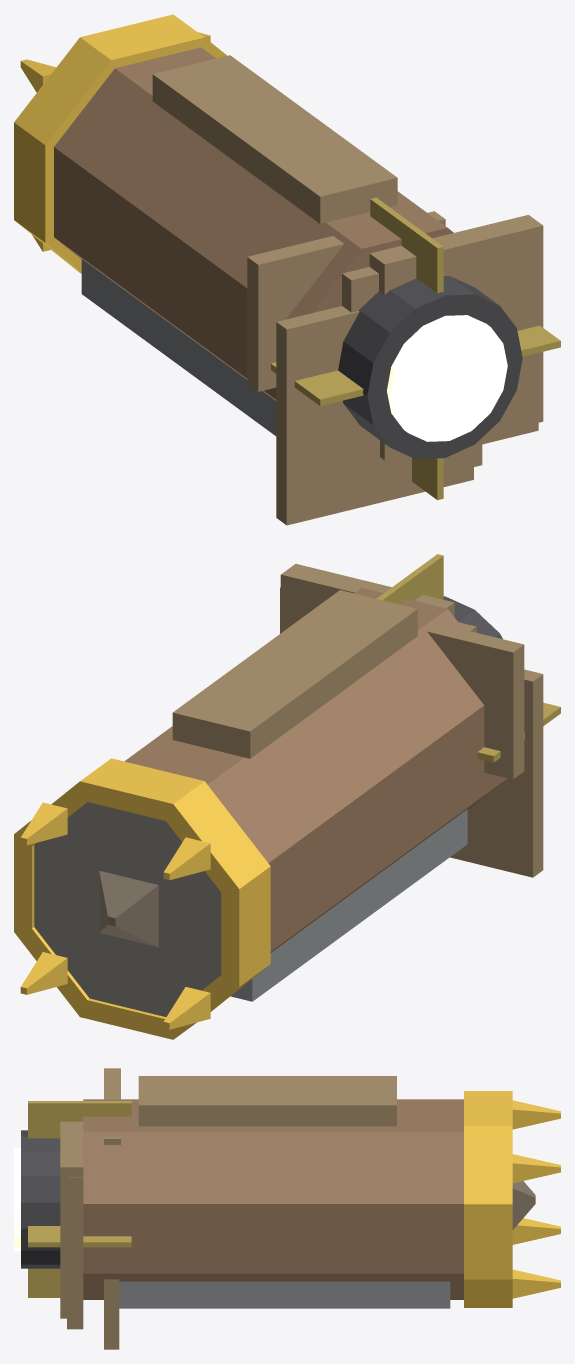
File: ship_XS_POD.glb
3 renders of one model, top to bottom at view 1: azimuth 30°, elevation 25°; view 2: azimuth 150°, elevation 25°; view 3: azimuth 270°, elevation 25°, orthographic. The views are drawn at different scales.
Visible parts, largest first — view 1: XS_POD_ScrapPlates, XS_POD_Hull-col, XS_POD_Hazard, XS_POD_Engines, XS_POD_EngineGlow, XS_POD_Interior-col, XS_POD_Trim; view 2: XS_POD_Hull-col, XS_POD_ScrapPlates, XS_POD_Hazard, XS_POD_Hatch-col, XS_POD_Interior-col, XS_POD_RamSpikes, XS_POD_Trim, XS_POD_Engines; view 3: XS_POD_Hull-col, XS_POD_ScrapPlates, XS_POD_Hazard, XS_POD_Interior-col, XS_POD_Trim, XS_POD_Engines, XS_POD_RamSpikes, XS_POD_EngineGlow.
Boxes of the visible parts, <box> form: XS_POD_ScrapPlates: <box>152,55,543,525</box>; XS_POD_Hull-col: <box>54,47,453,400</box>; XS_POD_Hazard: <box>14,14,227,273</box>; XS_POD_Engines: <box>338,275,522,458</box>; XS_POD_EngineGlow: <box>387,315,507,441</box>; XS_POD_Interior-col: <box>81,259,276,435</box>; XS_POD_Trim: <box>271,197,560,500</box>; XS_POD_Hull-col: <box>124,587,507,952</box>; XS_POD_ScrapPlates: <box>172,564,543,877</box>; XS_POD_Hazard: <box>14,758,270,1039</box>; XS_POD_Hatch-col: <box>34,802,221,1016</box>; XS_POD_Interior-col: <box>230,809,467,1001</box>; XS_POD_RamSpikes: <box>99,870,158,947</box>; XS_POD_Trim: <box>376,554,560,762</box>; XS_POD_Engines: <box>443,596,502,638</box>; XS_POD_Hull-col: <box>83,1099,463,1299</box>; XS_POD_ScrapPlates: <box>60,1068,396,1349</box>; XS_POD_Hazard: <box>464,1091,560,1307</box>; XS_POD_Interior-col: <box>119,1281,450,1308</box>; XS_POD_Trim: <box>28,1101,131,1297</box>; XS_POD_Engines: <box>21,1130,60,1268</box>; XS_POD_RamSpikes: <box>512,1181,535,1229</box>; XS_POD_EngineGlow: <box>14,1147,20,1251</box>.
Size of the model in its own units: 3.32 by 3.52 by 7.9.
